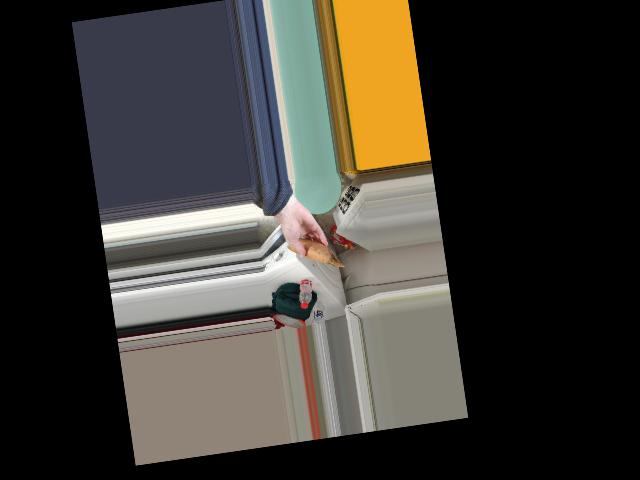sweet_potato: (291, 232, 328, 265)
